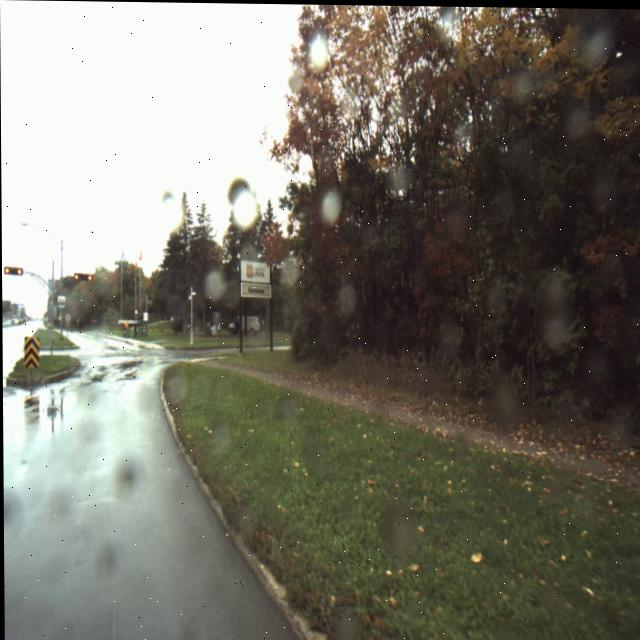trafficLight: (73, 272, 93, 283), (3, 266, 23, 276)
